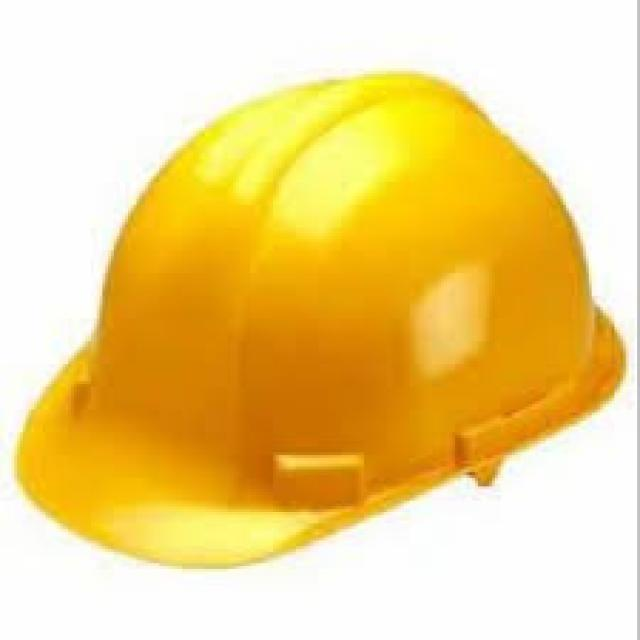safety_helmet: (28, 51, 634, 514)
